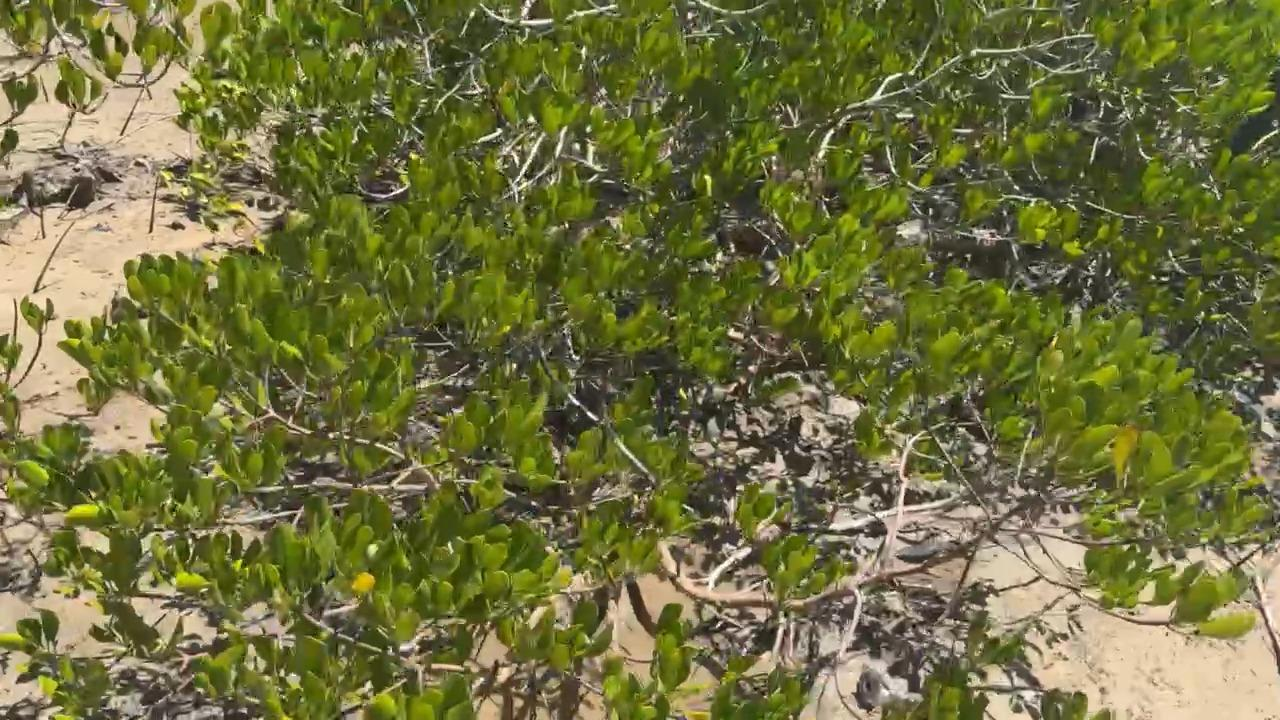Tree: (33, 219, 77, 294), (120, 88, 145, 137), (148, 175, 160, 235), (59, 110, 74, 149), (144, 73, 152, 101)
